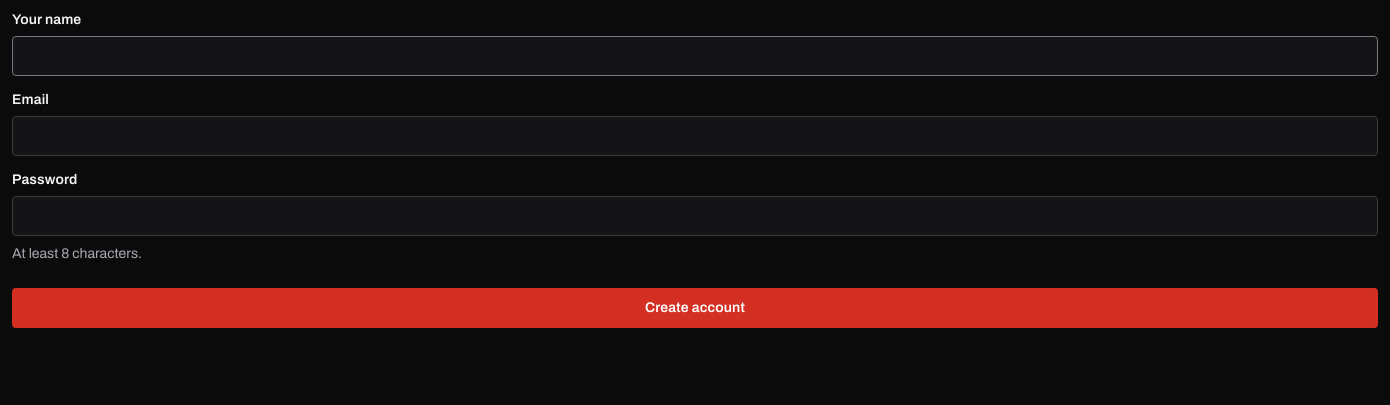
Test: RegisterForm › surfaces conflicts
Type "Kai" into the field labelled "Your name" at point(695, 56), box [12,36,1378,76]
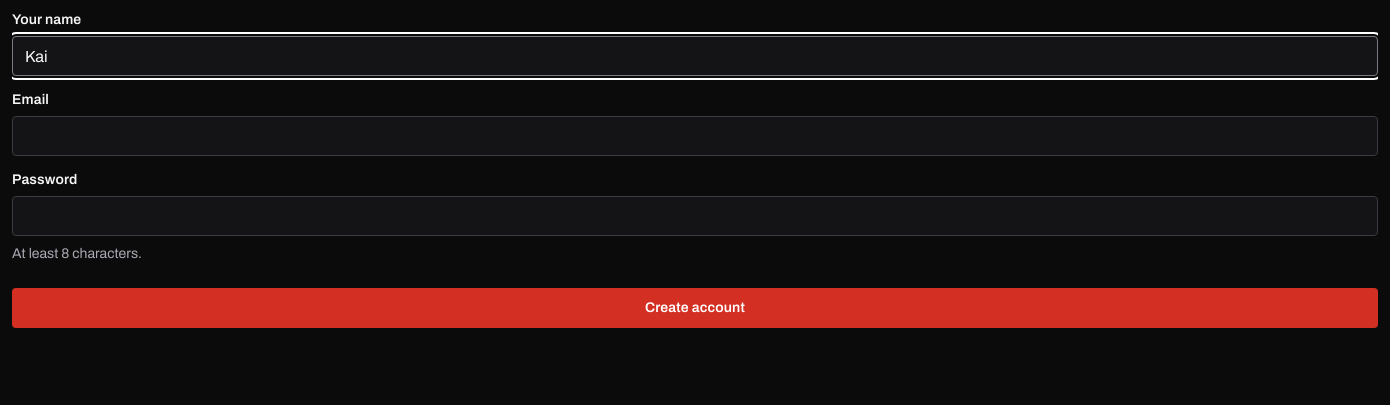
Type "taken@example.com" into the field labelled "Email" at point(695, 136), box [12,116,1378,156]
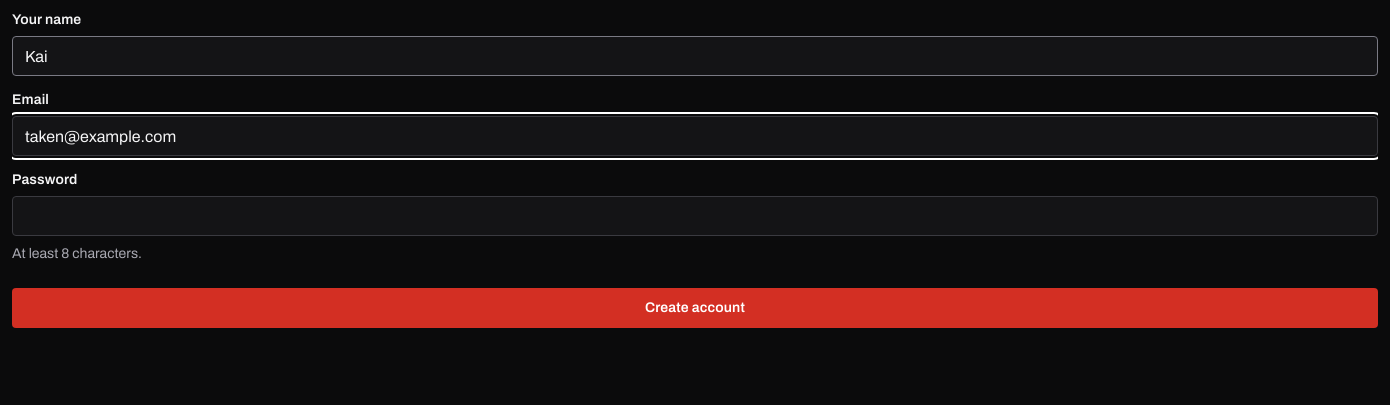
Type "correct-horse" into the password field labelled "Password" at point(695, 216), box [12,196,1378,236]
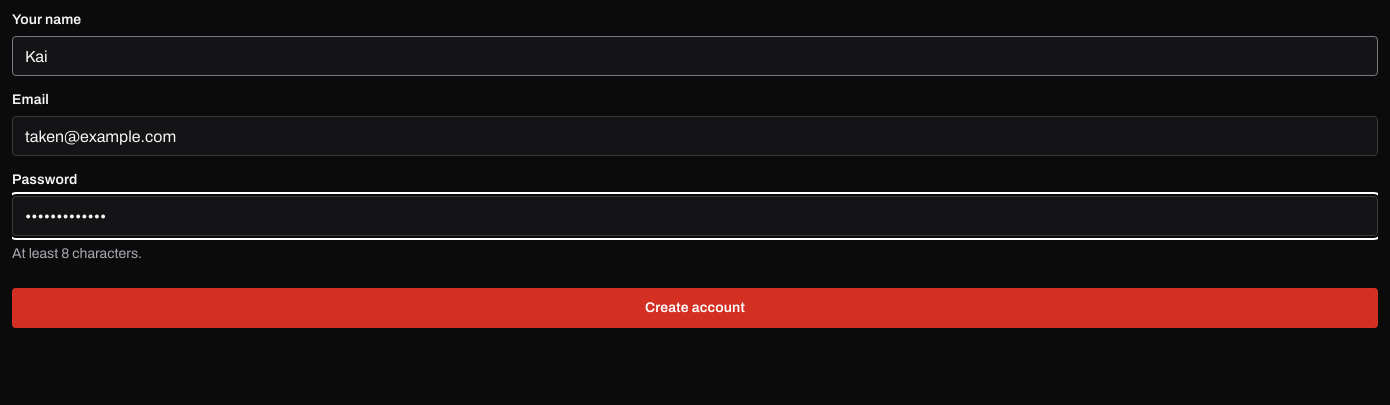
Click the button "Create account" at point(695, 308), box [12,288,1378,328]
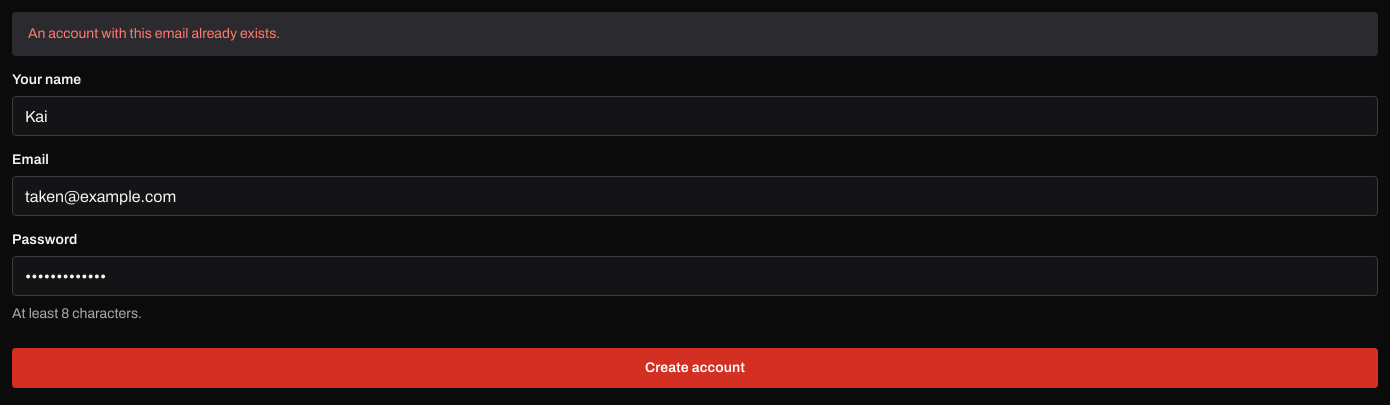
Check: the message reads "An account with this email already exists.", box [28,26,280,41]
